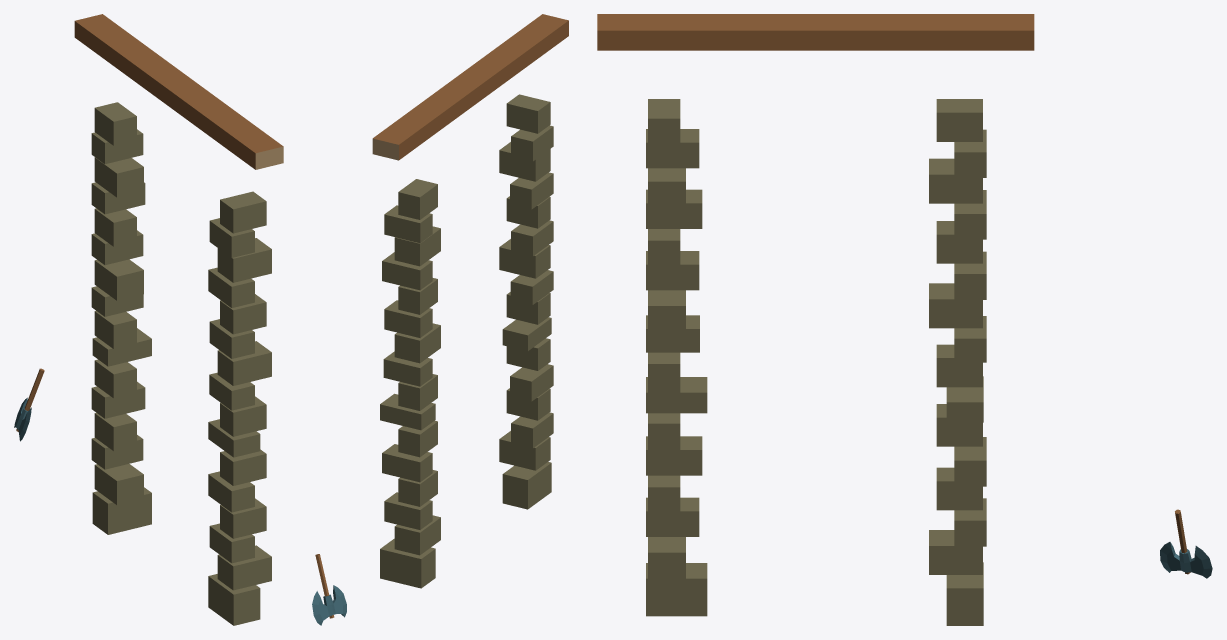
3 views of the same model, side by side, from view 1: azimuth 30°, elevation 25°; view 2: azimuth 150°, elevation 25°; view 3: azimuth 270°, elevation 25° (orthographic). The views are drawn at different scales.
Parts seen in each view (by area): view 1: Box15466_rock2_0, Box15462_rock2_0, Box15506_brown_0, Box15506_brown2_0, Plane549_metal_0; view 2: Box15462_rock2_0, Box15466_rock2_0, Box15506_brown_0, Plane549_metal_0, Box15506_brown2_0; view 3: Box15466_rock2_0, Box15462_rock2_0, Box15506_brown_0, Plane549_metal_0.
Boxes of the visible parts, x1,y1,x2,y2 form: Box15466_rock2_0: [208, 191, 271, 625]; Box15462_rock2_0: [91, 102, 151, 534]; Box15506_brown_0: [74, 14, 283, 169]; Box15506_brown2_0: [255, 146, 283, 169]; Plane549_metal_0: [14, 397, 31, 441]; Box15462_rock2_0: [380, 179, 440, 588]; Box15466_rock2_0: [499, 94, 553, 509]; Box15506_brown_0: [373, 14, 568, 159]; Plane549_metal_0: [312, 585, 346, 625]; Box15506_brown2_0: [372, 138, 398, 160]; Box15466_rock2_0: [646, 99, 707, 616]; Box15462_rock2_0: [929, 99, 986, 625]; Box15506_brown_0: [597, 14, 1034, 50]; Plane549_metal_0: [1160, 542, 1212, 578].
Size of the model in its own units: 76.82 by 795 by 754.
